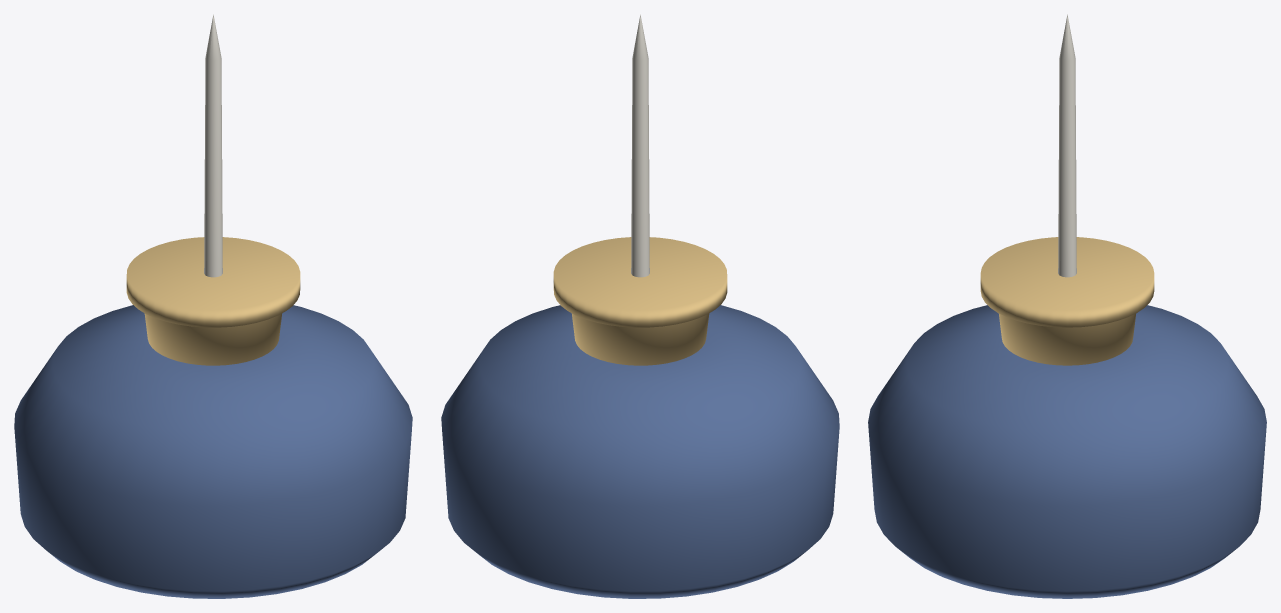
Rendered from sample-inkwell.glb.
3 views of the same model, side by side, from view 1: azimuth 30°, elevation 25°; view 2: azimuth 150°, elevation 25°; view 3: azimuth 270°, elevation 25° (orthographic).
Parts seen in each view (by area): view 1: Inkwell; view 2: Inkwell; view 3: Inkwell.
Boxes of the visible parts, x1,y1,x2,y2 form: Inkwell: (14,14,412,598); Inkwell: (441,14,839,598); Inkwell: (868,14,1266,598).
Bounding box in the file's own units: 1.24 × 1.75 × 1.24.
